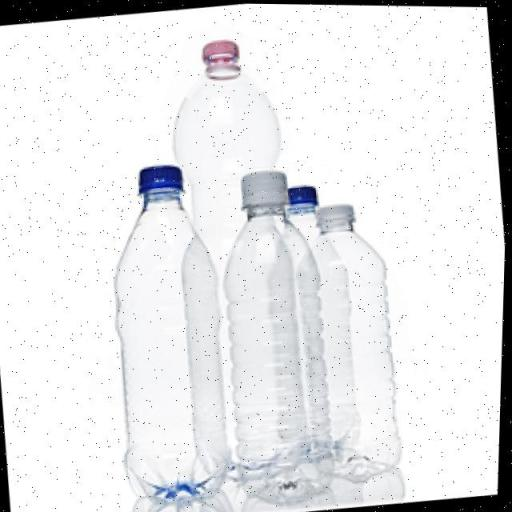plastic: (80, 19, 421, 512), (94, 158, 245, 504), (205, 162, 346, 508), (302, 196, 412, 486)
